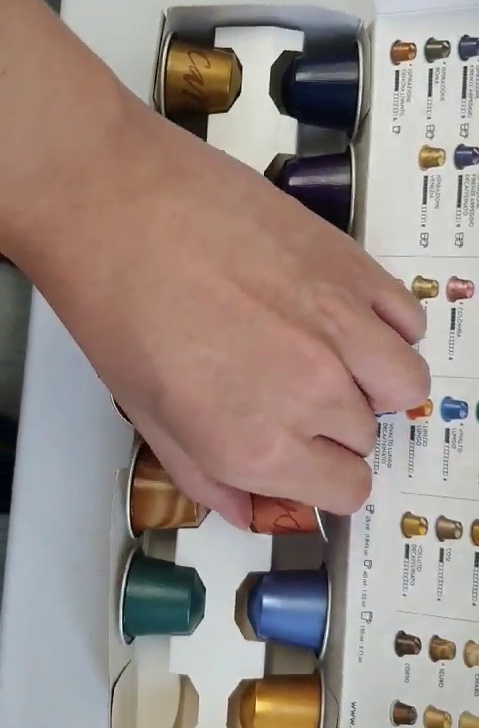capsule_6: (244, 459, 336, 551)
